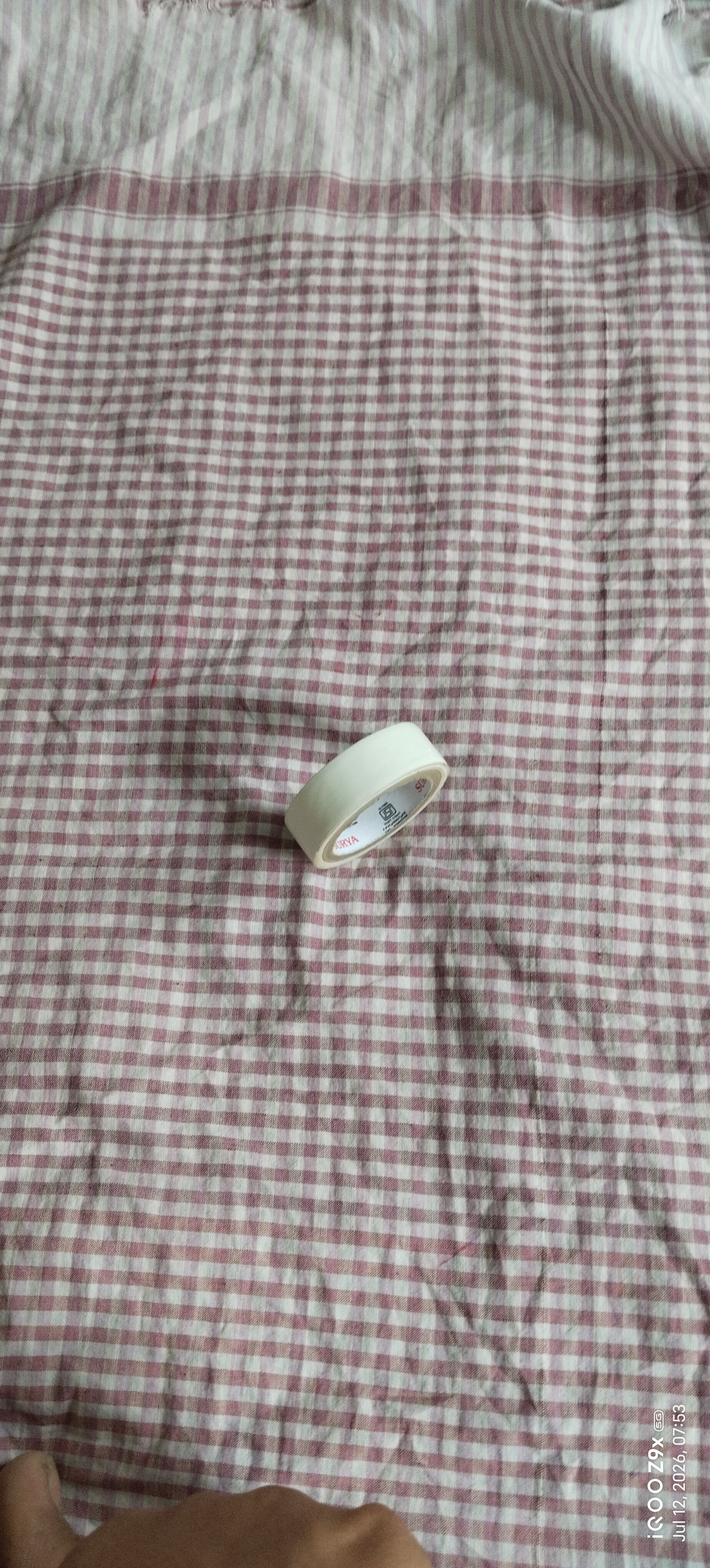tape_roll: (267, 707, 490, 887)
